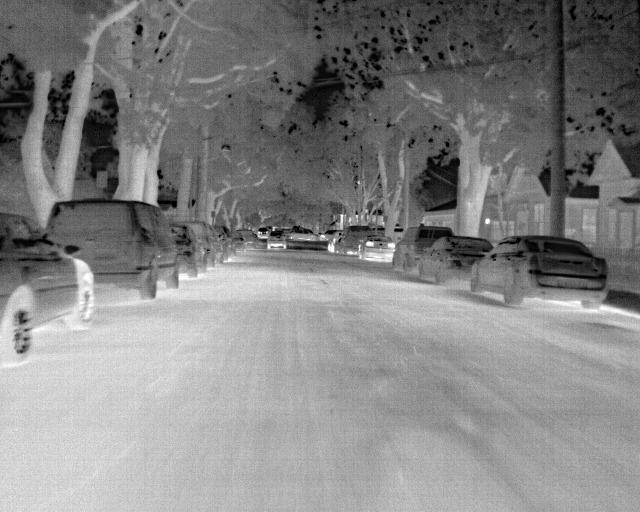bicycle: (0, 211, 94, 366), (44, 198, 178, 298), (468, 234, 608, 310), (416, 235, 494, 283), (391, 226, 454, 272), (169, 222, 207, 277), (177, 220, 211, 268), (334, 225, 372, 254), (357, 234, 396, 261), (209, 225, 231, 258), (266, 229, 288, 250), (232, 230, 247, 256), (241, 229, 259, 250), (326, 230, 342, 252), (255, 226, 271, 240)
